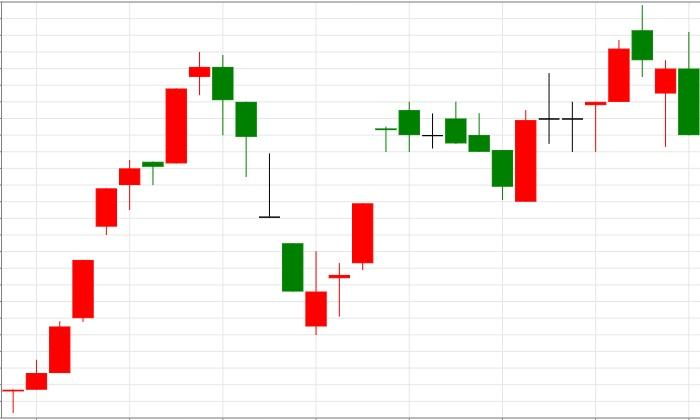bullish_engulfing_rise: (376, 101, 537, 203)
